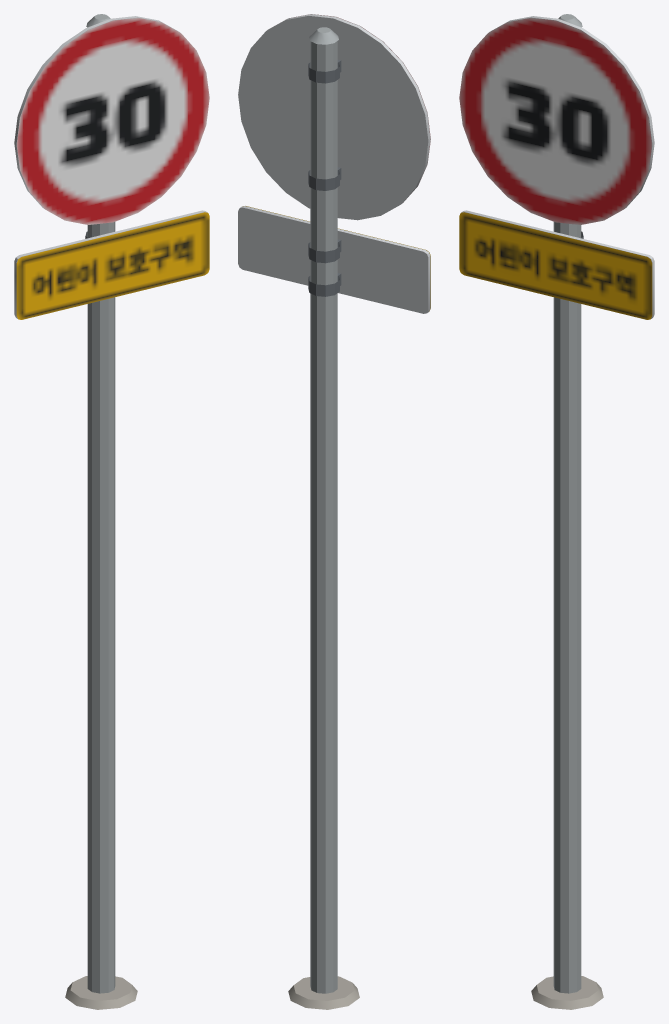
Rendered from SC_Str_Sign_Speed30_SchoolZone.gltf.
The picture shows the model from 3 angles, left to right: view 1: azimuth 30°, elevation 25°; view 2: azimuth 150°, elevation 25°; view 3: azimuth 330°, elevation 25°; orthographic projection.
Parts seen in each view (by area): view 1: SC_Str_Sign_Speed30_SchoolZone; view 2: SC_Str_Sign_Speed30_SchoolZone; view 3: SC_Str_Sign_Speed30_SchoolZone.
Part boxes in pixels (box(x1,y1,x2,y2)): SC_Str_Sign_Speed30_SchoolZone: box(14, 14, 209, 1009); SC_Str_Sign_Speed30_SchoolZone: box(238, 14, 430, 1009); SC_Str_Sign_Speed30_SchoolZone: box(459, 14, 654, 1009).
Bounding box in the file's own units: 0.6 × 2.92 × 0.2.
2 materials, 2 textured.
